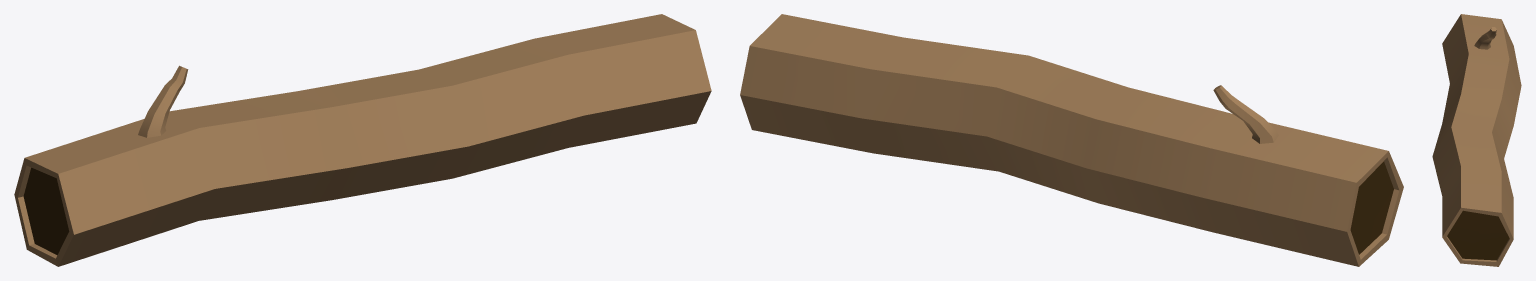
The model's file is Log 1.fbx.
3 views of the same model, side by side, from view 1: azimuth 30°, elevation 25°; view 2: azimuth 150°, elevation 25°; view 3: azimuth 270°, elevation 25° (orthographic). The views are drawn at different scales.
Visible parts, largest first — view 1: pCylinder6; view 2: pCylinder6; view 3: pCylinder6.
Boxes of the visible parts, <box> form: pCylinder6: <box>14,14,711,266</box>; pCylinder6: <box>740,14,1403,266</box>; pCylinder6: <box>1432,14,1521,266</box>.
Size of the model in its own units: 142 by 34.51 by 28.7.
